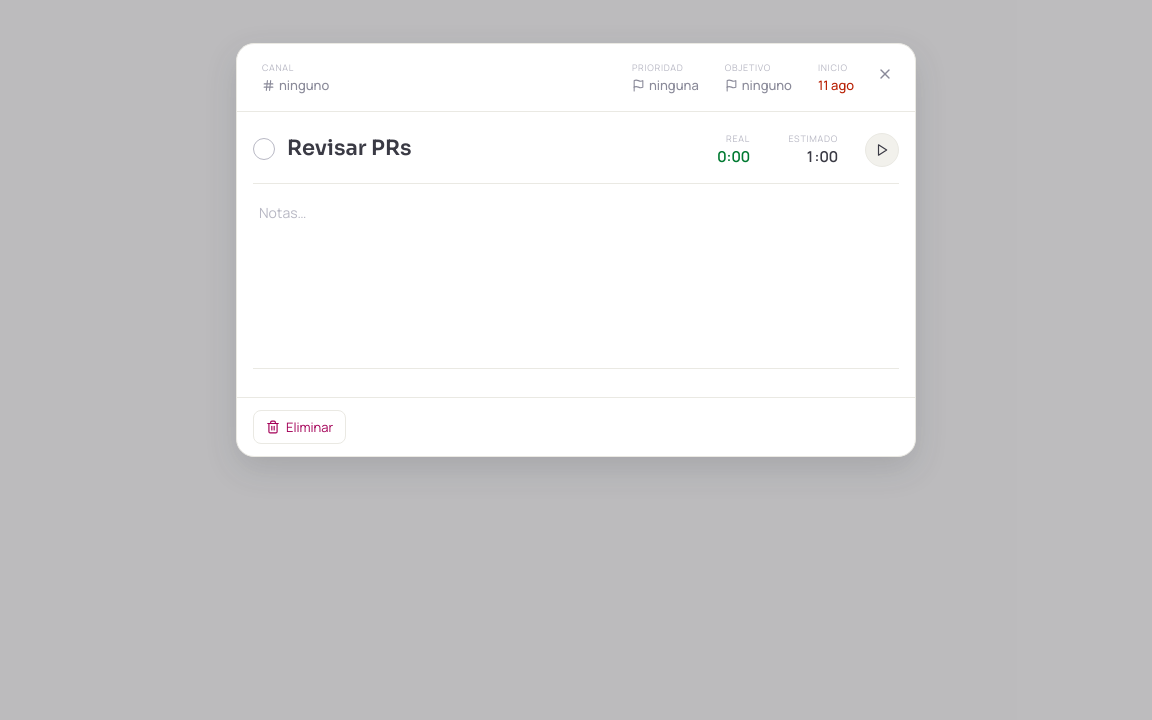
Test: TaskModal · el título largo se lee entero › Enter no mete un salto de línea: el título es de una sola línea
The image size is (1152, 720).
Click the text box named "Título": click(478, 149) [287,133,669,164]
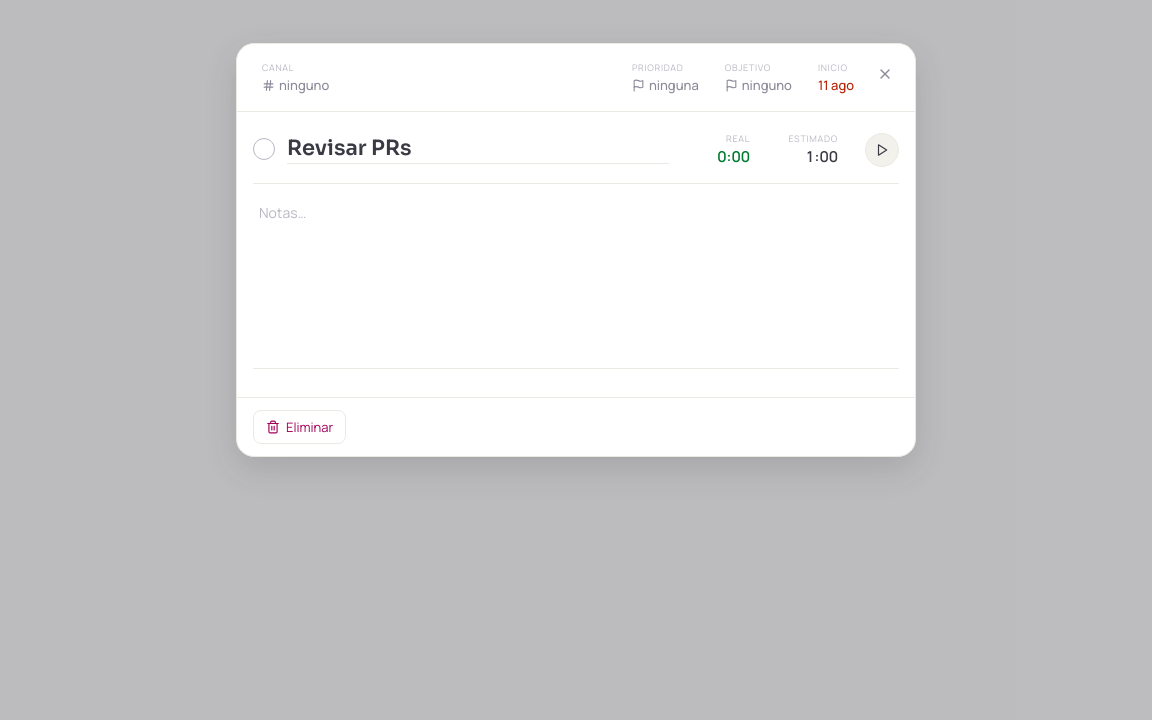
Type keys "{Enter}ya"
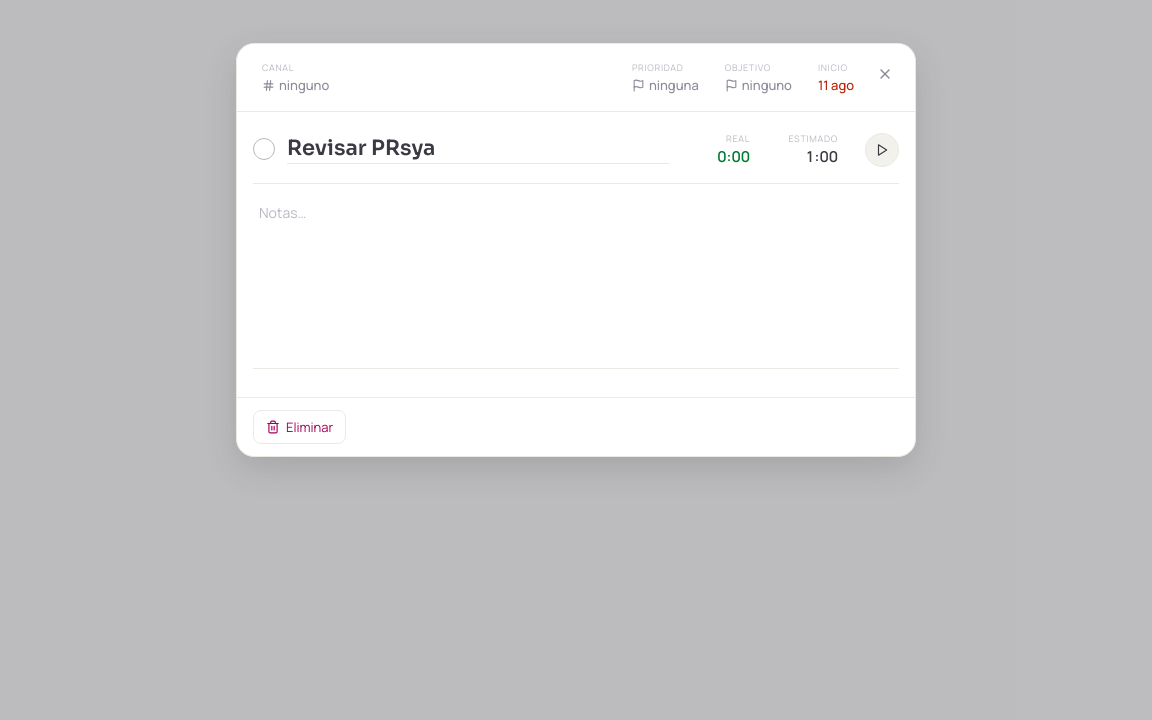
expect the text box named "Título" holds "Revisar PRsya": met, box [287,133,669,164]
